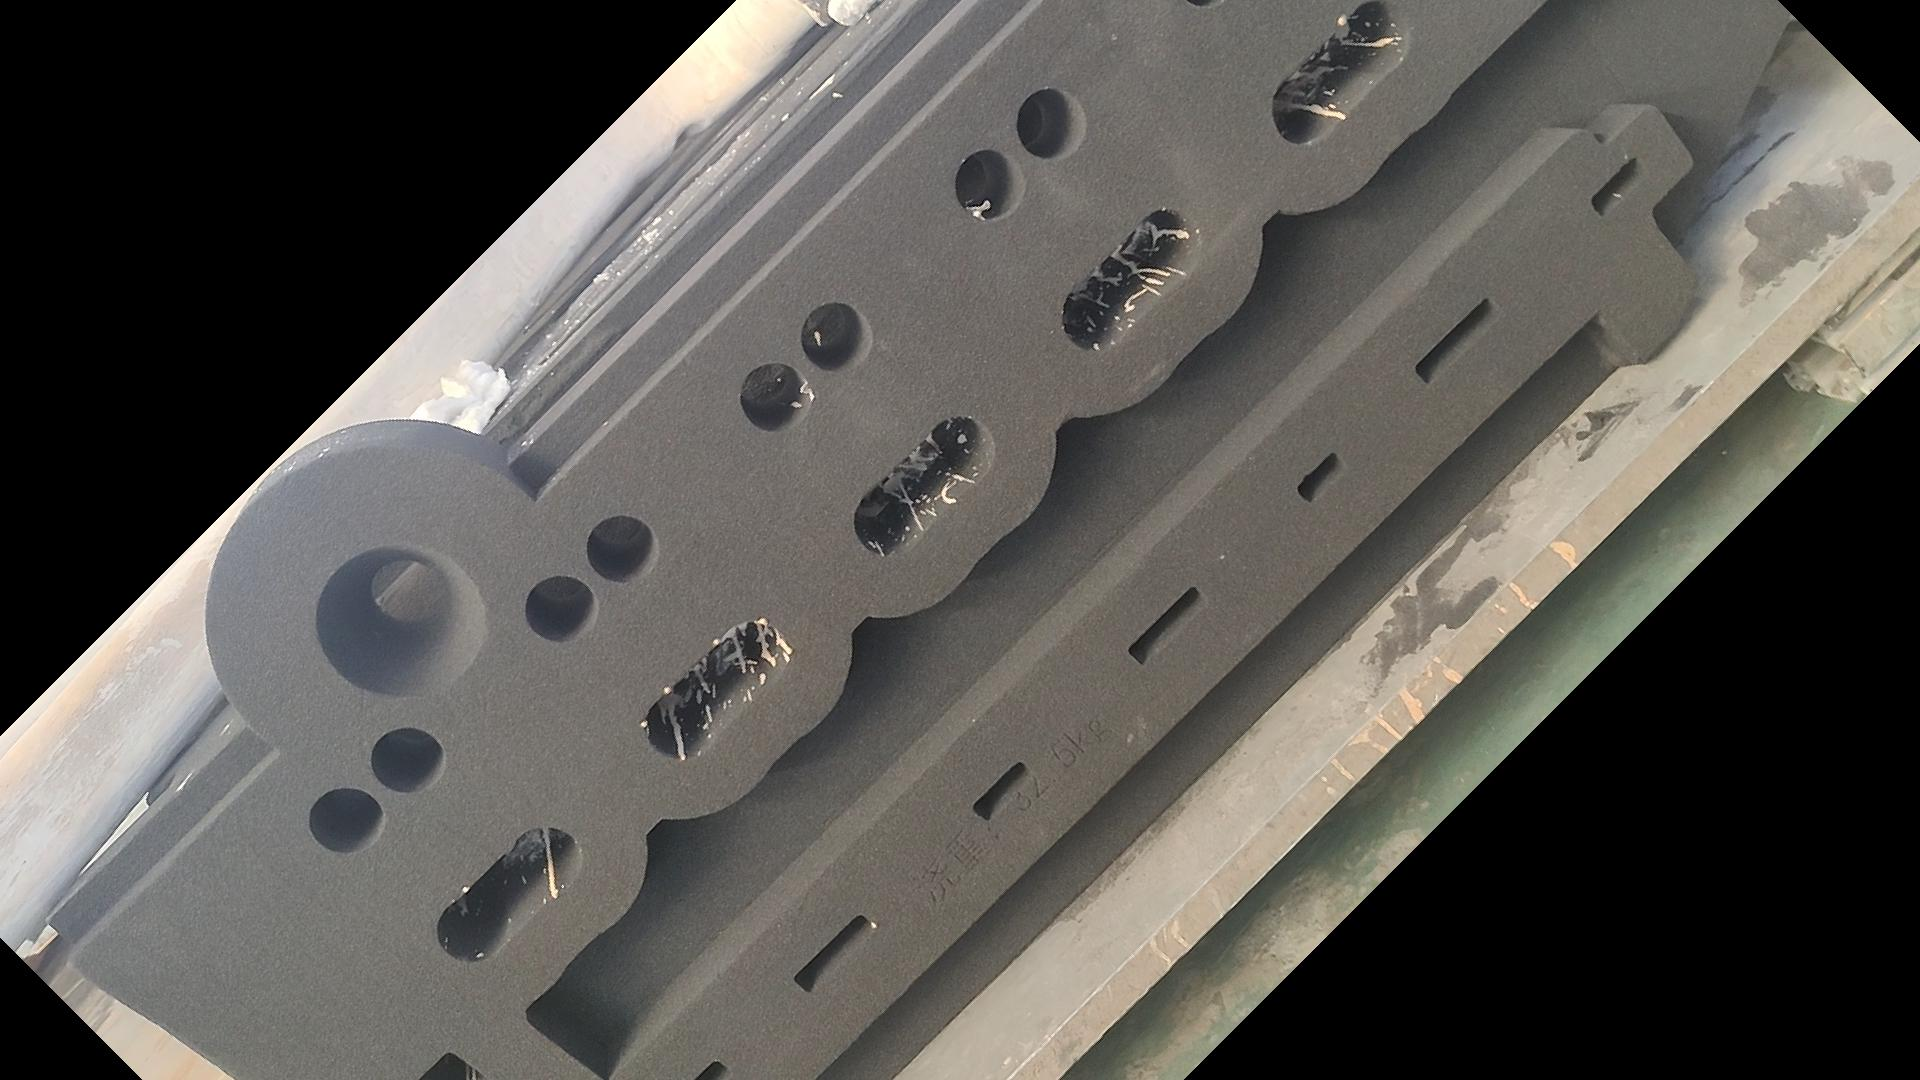pouring hole: (315, 545, 485, 698)
